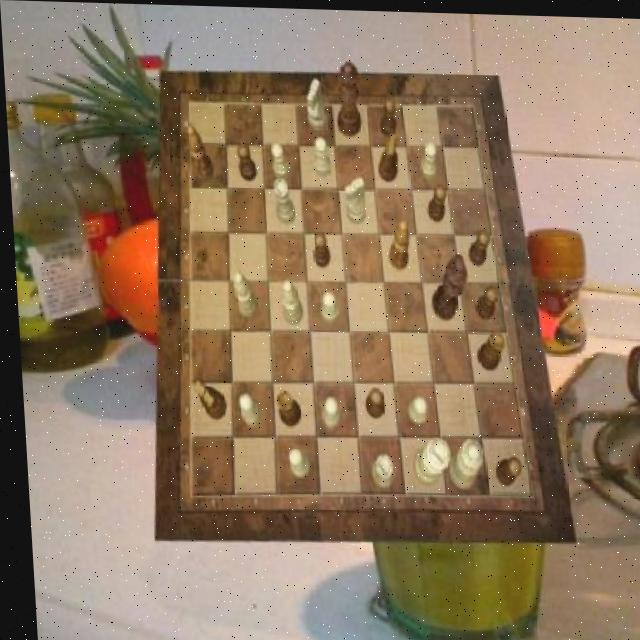bishop: (186, 123, 213, 181), (383, 216, 408, 268)
black-bishop: (427, 251, 467, 318)
black-king: (188, 379, 223, 418), (375, 132, 398, 180)
black-knight: (464, 226, 489, 263), (425, 180, 447, 219), (473, 281, 497, 316), (490, 454, 517, 484), (236, 143, 257, 181), (378, 95, 397, 135), (310, 230, 329, 266), (361, 385, 380, 416)
black-pawn: (335, 60, 361, 137)
black-queen: (472, 328, 503, 368), (272, 389, 298, 425)
black-rook: (229, 271, 255, 318), (277, 277, 300, 323)
white-bishop: (408, 435, 447, 484)
white-king: (305, 78, 326, 131), (343, 176, 365, 222)
white-knight: (312, 135, 331, 175), (235, 393, 257, 426), (282, 446, 304, 478), (419, 139, 437, 178), (270, 142, 289, 178), (317, 395, 336, 428), (316, 290, 335, 321), (404, 395, 425, 423)
white-pawn: (441, 436, 480, 488)
white-queen: (272, 177, 295, 223), (365, 453, 390, 487)
